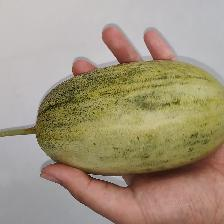gua: (37, 72, 208, 157)
